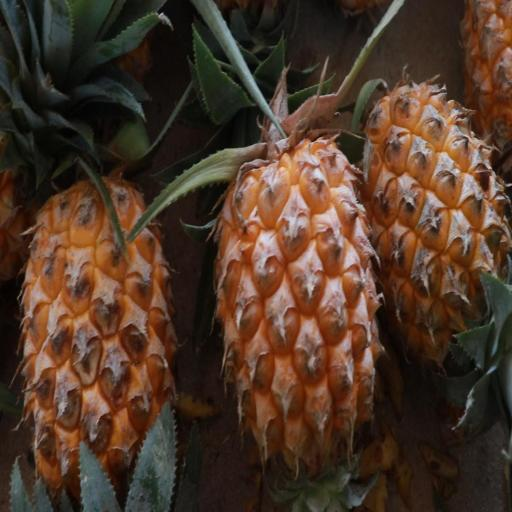Pineapple - v8 v1: (212, 115, 386, 512), (16, 122, 184, 512), (359, 71, 512, 394)
